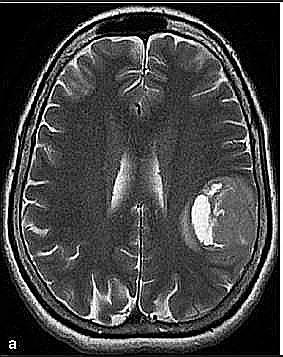Tumor: (189, 169, 261, 269)
